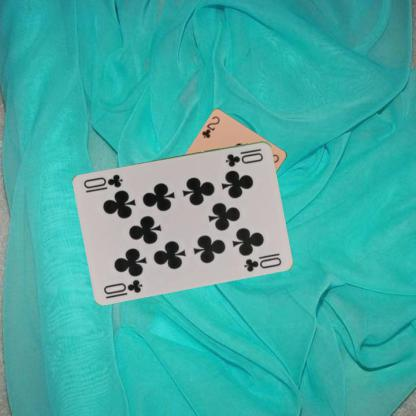10c: (223, 146, 265, 168), (101, 276, 144, 295)
2c: (200, 114, 222, 140)
